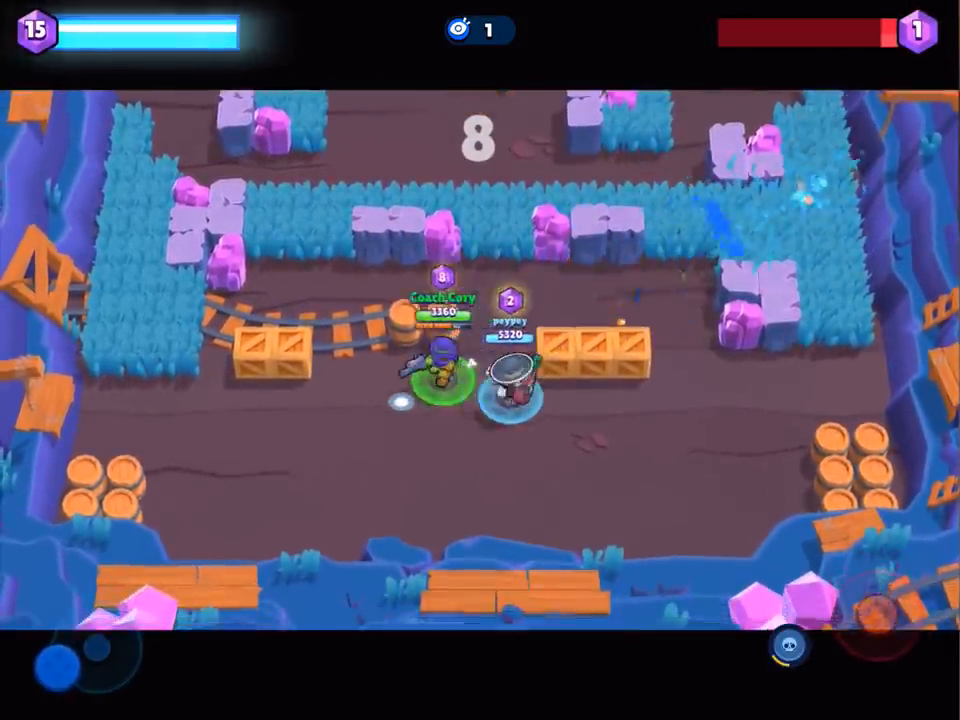move_stick: (30, 639, 89, 687)
